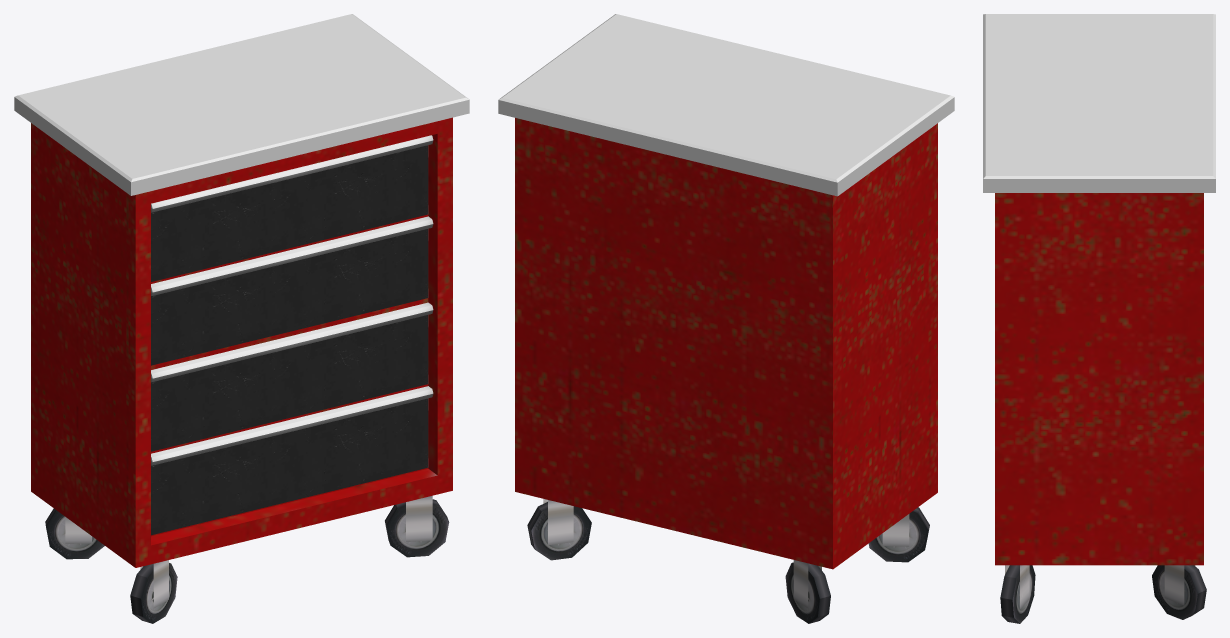
The model's file is rolling tool chest.fbx.
The picture shows the model from 3 angles, left to right: view 1: azimuth 30°, elevation 25°; view 2: azimuth 150°, elevation 25°; view 3: azimuth 270°, elevation 25°; orthographic projection.
Visible parts, largest first — view 1: drawers, tool chest, tool chest top, drawer handles, wheel 3, wheel 1, wheel 2; view 2: tool chest, tool chest top, wheel 4, wheel 2, wheel 1; view 3: tool chest, tool chest top, wheel 4, wheel 3.
Boxes of the visible parts, bbox=[...] form: drawers: bbox=[151, 145, 428, 535]; tool chest: bbox=[31, 117, 452, 567]; tool chest top: bbox=[14, 14, 469, 195]; drawer handles: bbox=[151, 135, 433, 465]; wheel 3: bbox=[385, 495, 449, 557]; wheel 1: bbox=[130, 560, 177, 623]; wheel 2: bbox=[45, 508, 104, 559]; tool chest: bbox=[515, 118, 937, 569]; tool chest top: bbox=[498, 14, 954, 196]; wheel 4: bbox=[527, 499, 591, 560]; wheel 2: bbox=[785, 560, 830, 623]; wheel 1: bbox=[868, 507, 929, 562]; tool chest: bbox=[995, 193, 1203, 565]; tool chest top: bbox=[983, 14, 1215, 192]; wheel 4: bbox=[1152, 565, 1206, 619]; wheel 3: bbox=[1000, 565, 1035, 623].
Size of the model in its own units: 373 by 485 by 223.
